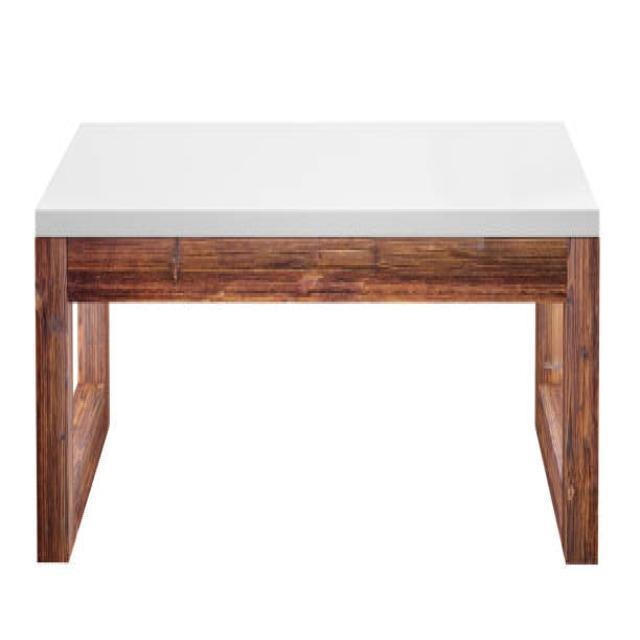table: (34, 116, 600, 564)
